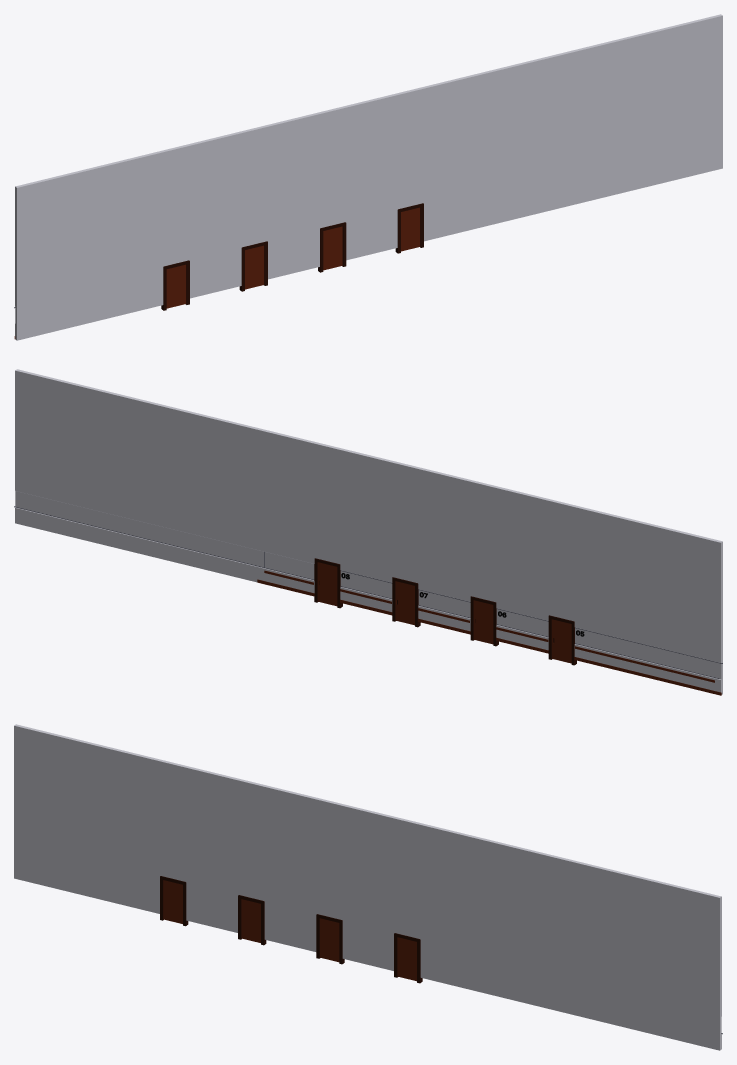
The model's file is Right Wall.obj.
3 renders of one model, top to bottom at view 1: azimuth 30°, elevation 25°; view 2: azimuth 150°, elevation 25°; view 3: azimuth 330°, elevation 25°, orthographic.
Visible parts, largest first — view 1: Union17, Union13, Union1, Union5, Union9; view 2: Union17, Union1, Union9, Union13, Union5, Part35; view 3: Union17, Union9, Union13, Union1, Union5.
Part boxes in pixels (x1,y1,x2,y2): Union17: (15, 14, 722, 340); Union13: (166, 264, 186, 308); Union1: (401, 207, 420, 251); Union5: (323, 226, 342, 270); Union9: (245, 245, 264, 289); Union17: (15, 369, 722, 694); Union1: (317, 562, 337, 606); Union9: (473, 600, 493, 644); Union13: (552, 619, 571, 663); Union5: (395, 581, 414, 625); Part35: (574, 657, 721, 695); Union17: (14, 724, 721, 1050); Union9: (241, 899, 260, 942); Union13: (163, 880, 182, 923); Union1: (397, 937, 416, 981); Union5: (320, 918, 339, 962).
Size of the model in its own units: 164 by 35 by 1.09.
